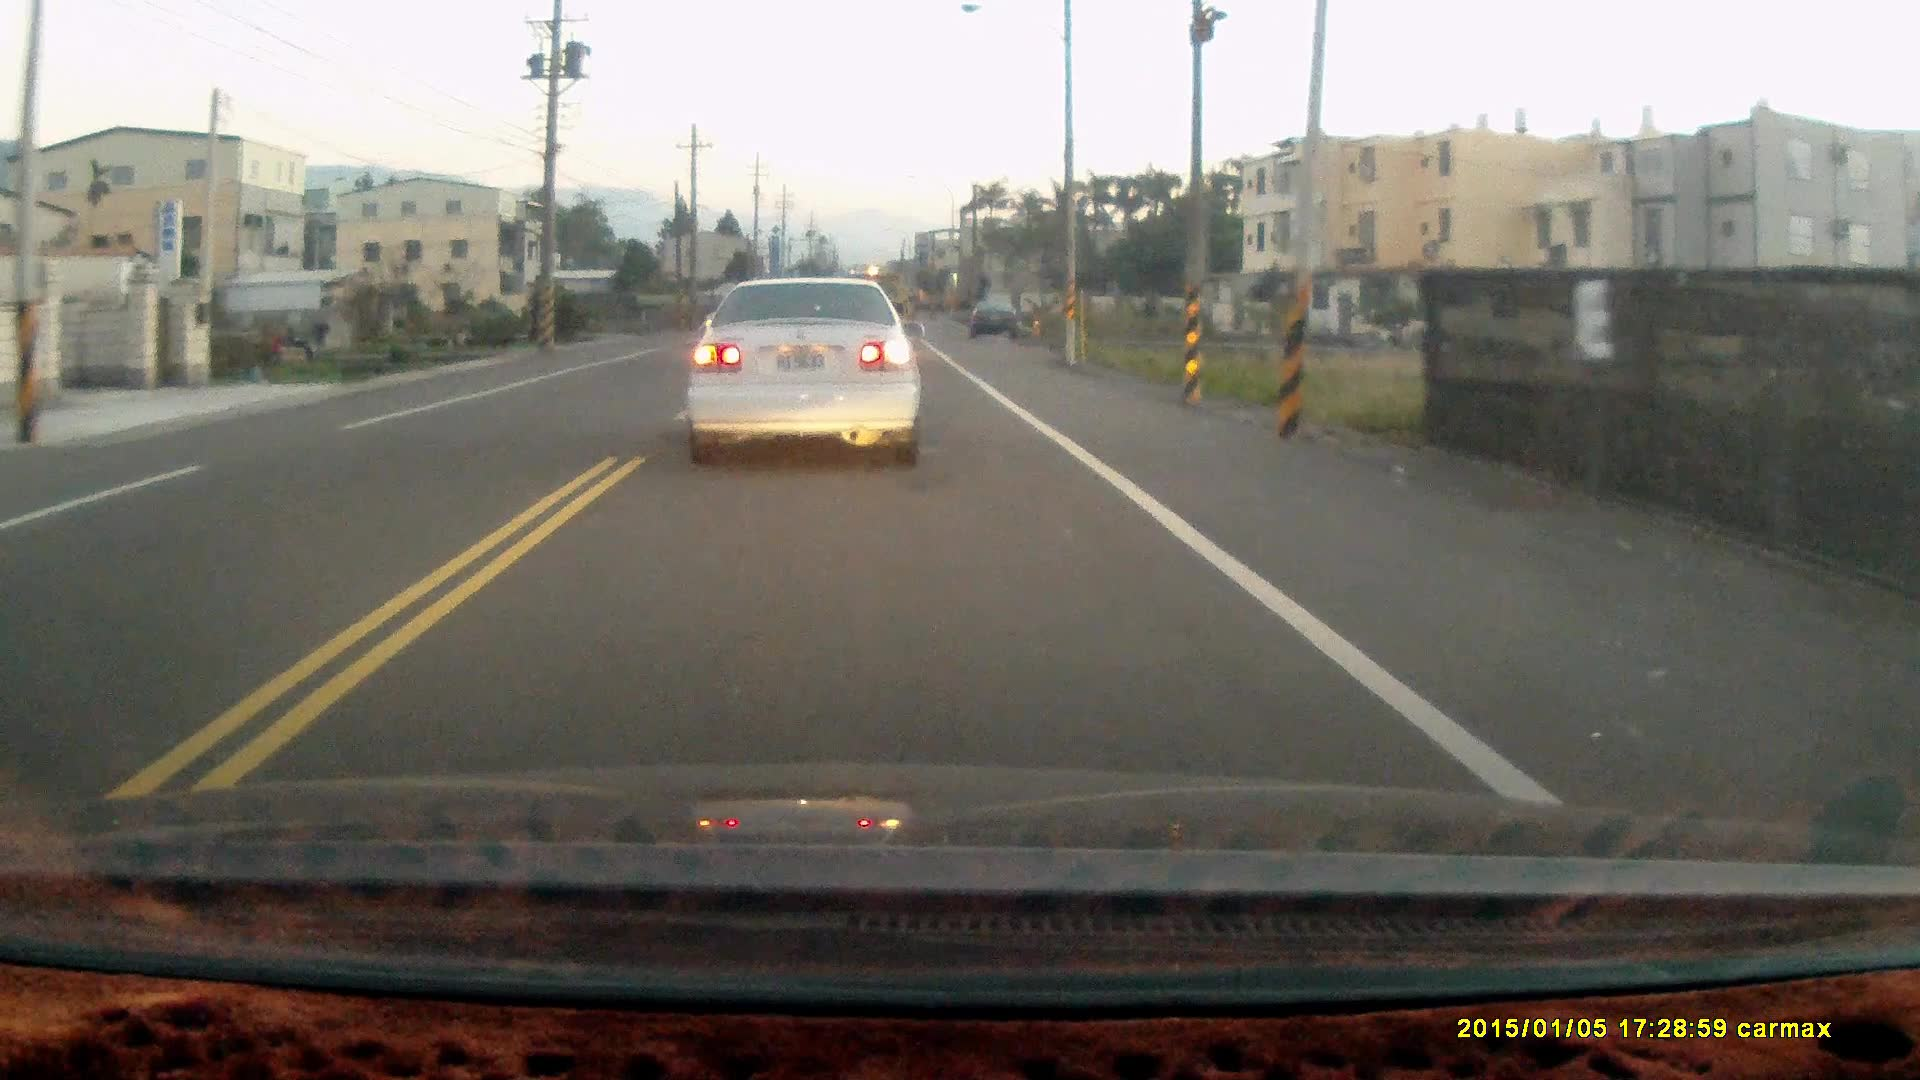vehicle: (687, 276, 927, 469), (967, 295, 1022, 343)
